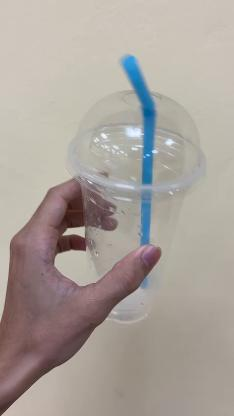Plastic Cup: (66, 86, 206, 322)
